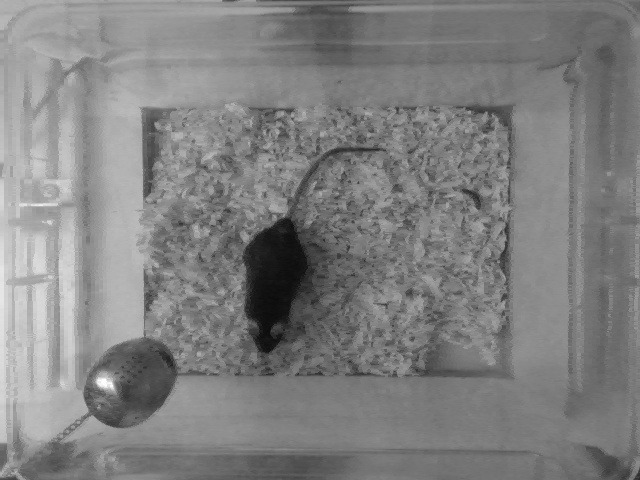mice: (247, 144, 387, 362)
